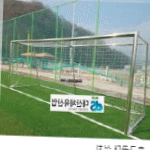goals: (9, 31, 149, 138)
